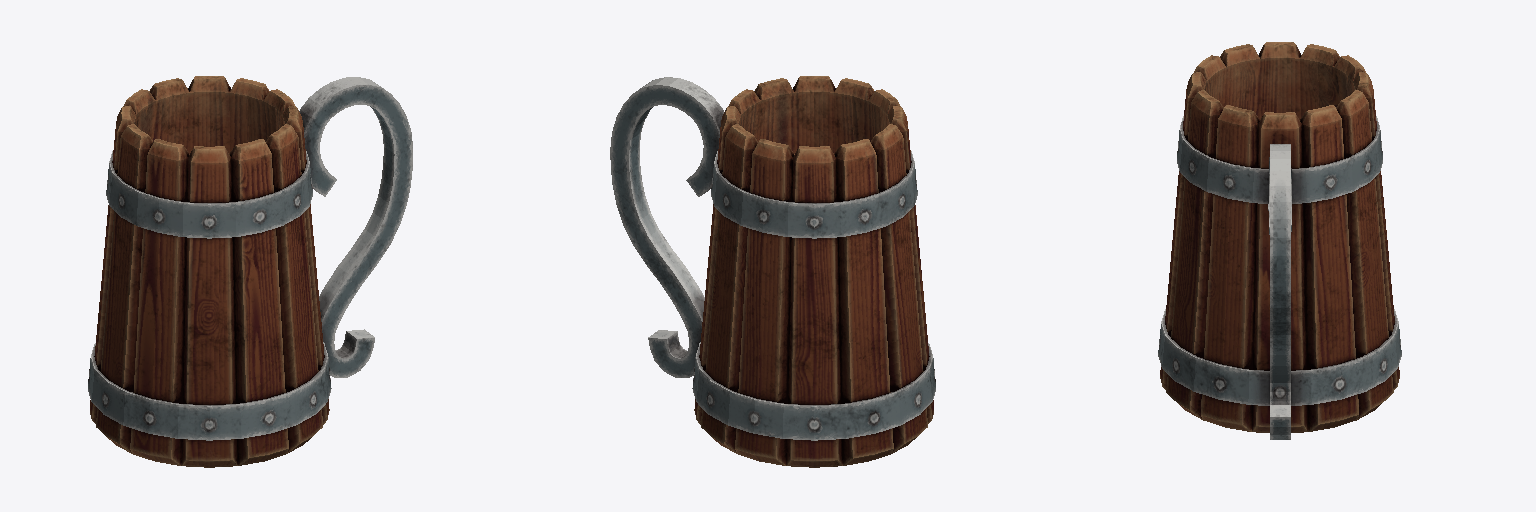
3 views of the same model, side by side, from view 1: azimuth 30°, elevation 25°; view 2: azimuth 150°, elevation 25°; view 3: azimuth 270°, elevation 25° (orthographic).
Visible parts, largest first — view 1: Mug_01_Plane.001; view 2: Mug_01_Plane.001; view 3: Mug_01_Plane.001.
Part boxes in pixels (bbox=[...]): Mug_01_Plane.001: bbox=[88, 76, 412, 467]; Mug_01_Plane.001: bbox=[610, 76, 935, 467]; Mug_01_Plane.001: bbox=[1158, 42, 1401, 439].
Size of the model in its own units: 3.05 by 2.96 by 2.12.
1 materials, 1 textured.